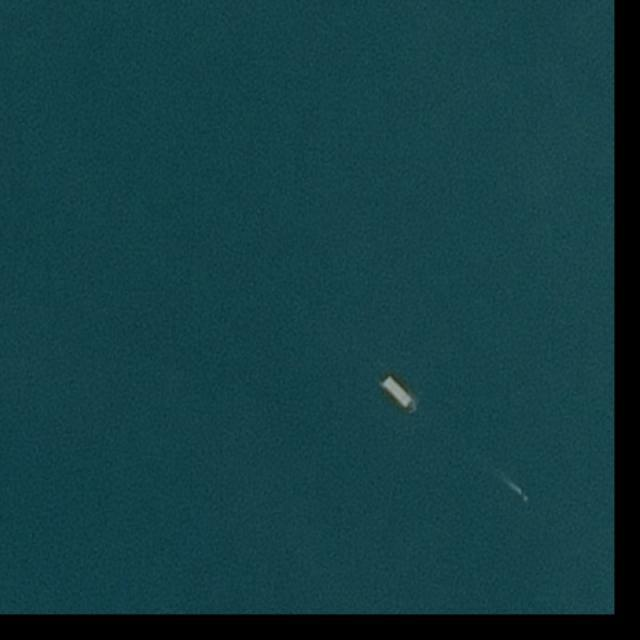ship: (381, 377, 414, 410), (521, 493, 530, 502)
